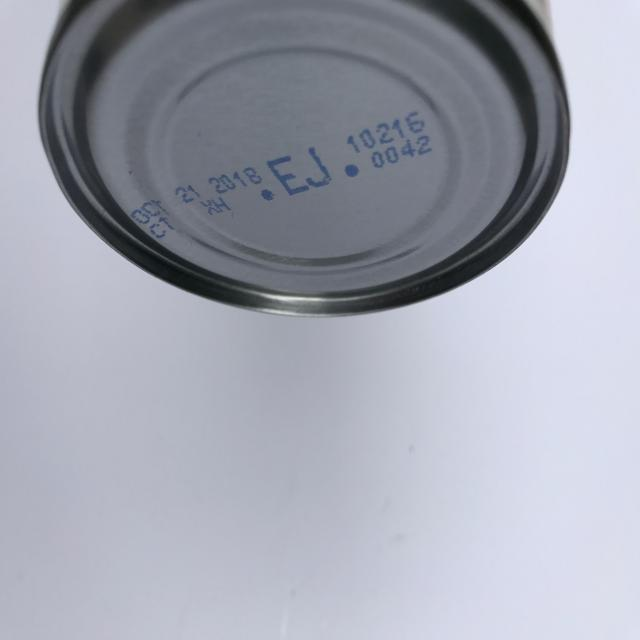Metal: (33, 0, 590, 323)
